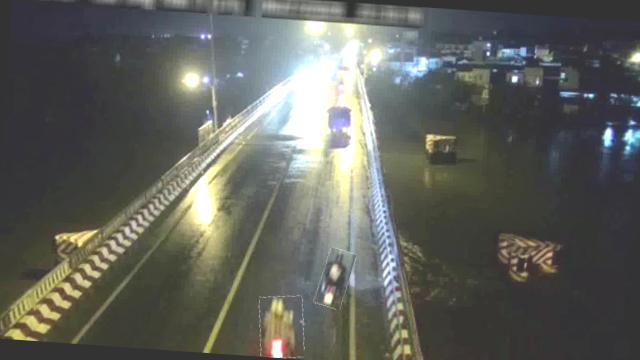Bike: (256, 293, 306, 358), (316, 248, 354, 310)
